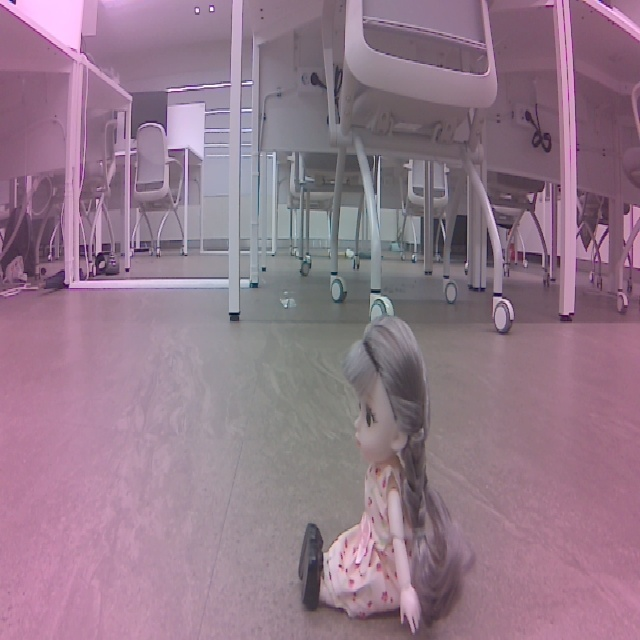장애물: (276, 311, 492, 638)
